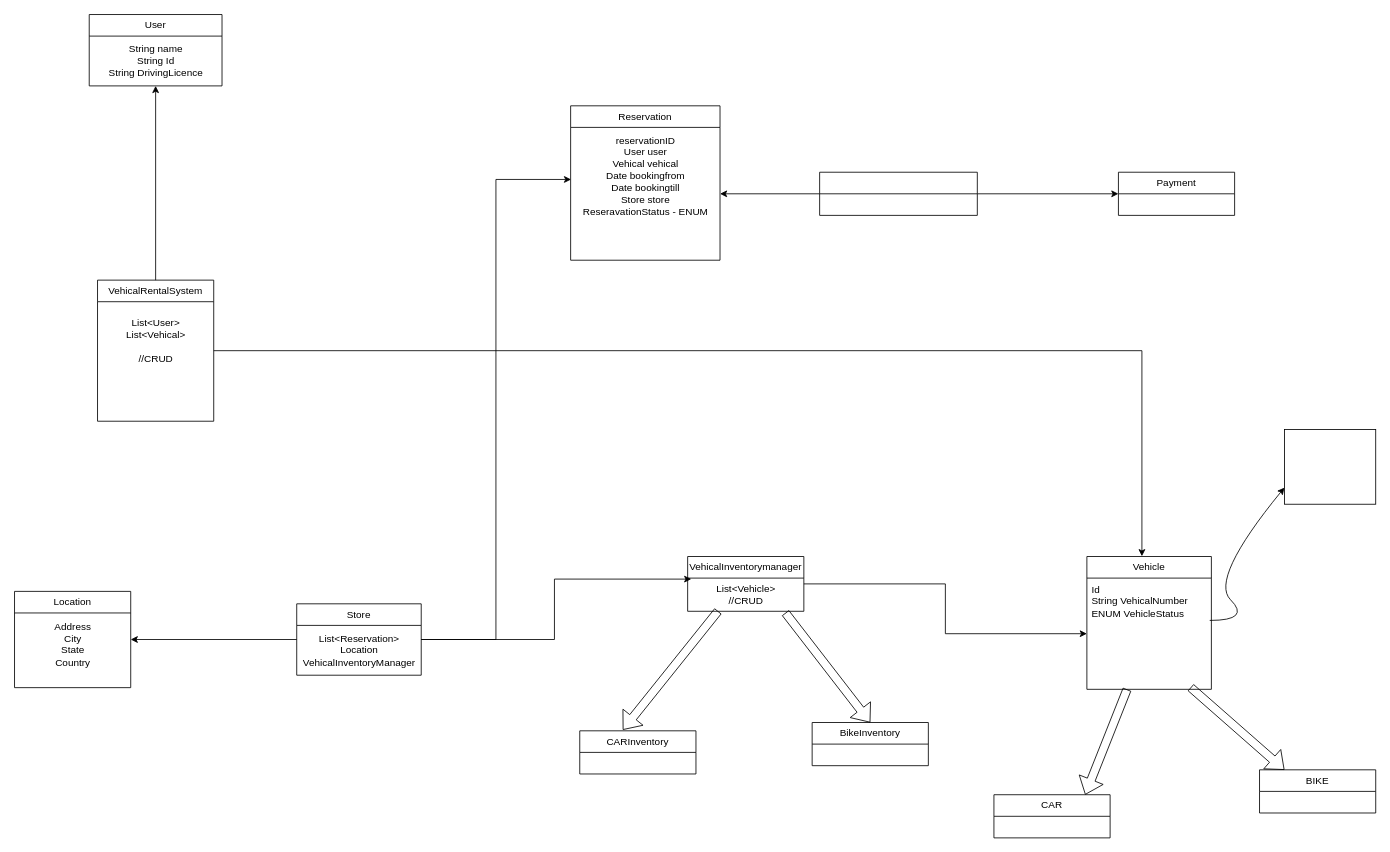
Some shapes in this 1390 by 852 pixel diagram are drawn without their labels. Here are the shapes that lost their labels. From the top down, the centre of each, then its label:
point (898, 193): Bill
point (1330, 466): VehicalStatus{ ACTIVE, INACTIVE }
